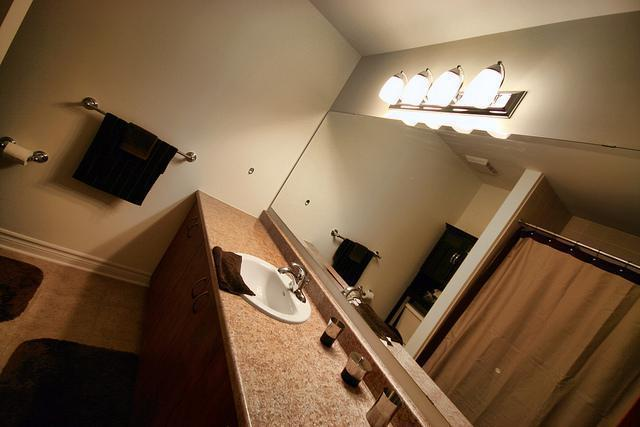Ducha: (402, 197, 639, 426)
Lavamanos: (215, 228, 331, 341)
